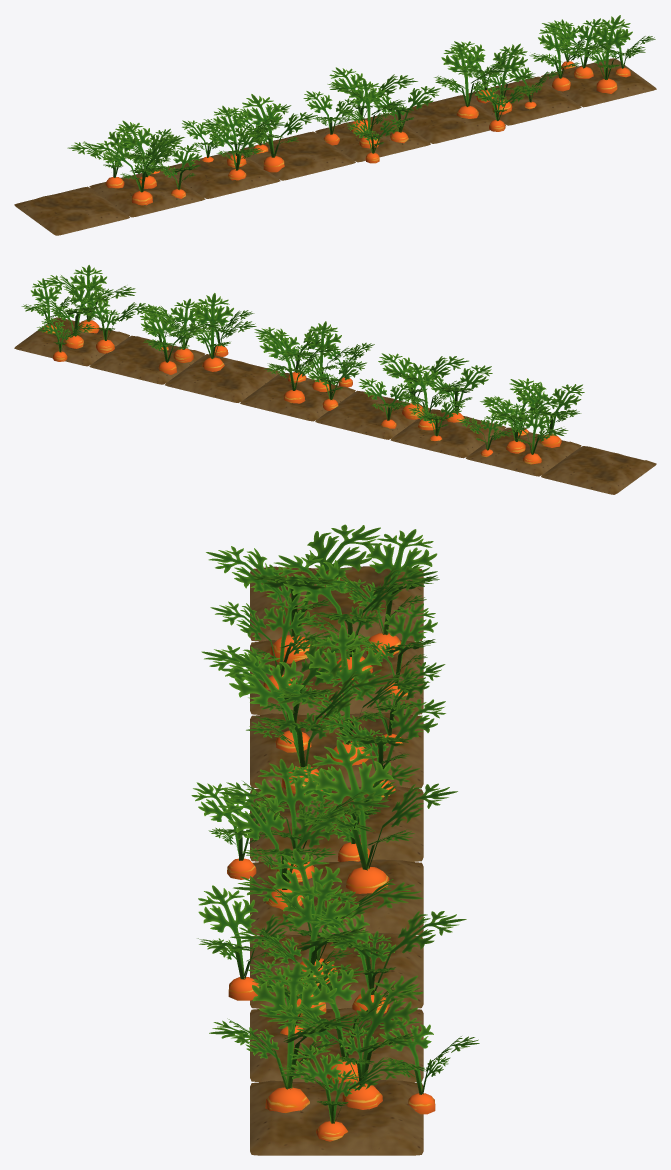
Rendered from carrot_patch.glb.
3 renders of one model, top to bottom at view 1: azimuth 30°, elevation 25°; view 2: azimuth 150°, elevation 25°; view 3: azimuth 270°, elevation 25°, orthographic. The views are drawn at different scales.
Parts seen in each view (by area): view 1: carrot_patch; view 2: carrot_patch; view 3: carrot_patch.
Boxes of the visible parts, <box> form: carrot_patch: <box>14,15,656,235</box>; carrot_patch: <box>14,265,656,494</box>; carrot_patch: <box>191,524,479,1155</box>.
Size of the model in its own units: 26.04 by 2.39 by 5.38.
Materials: 2 (2 with a texture image).
